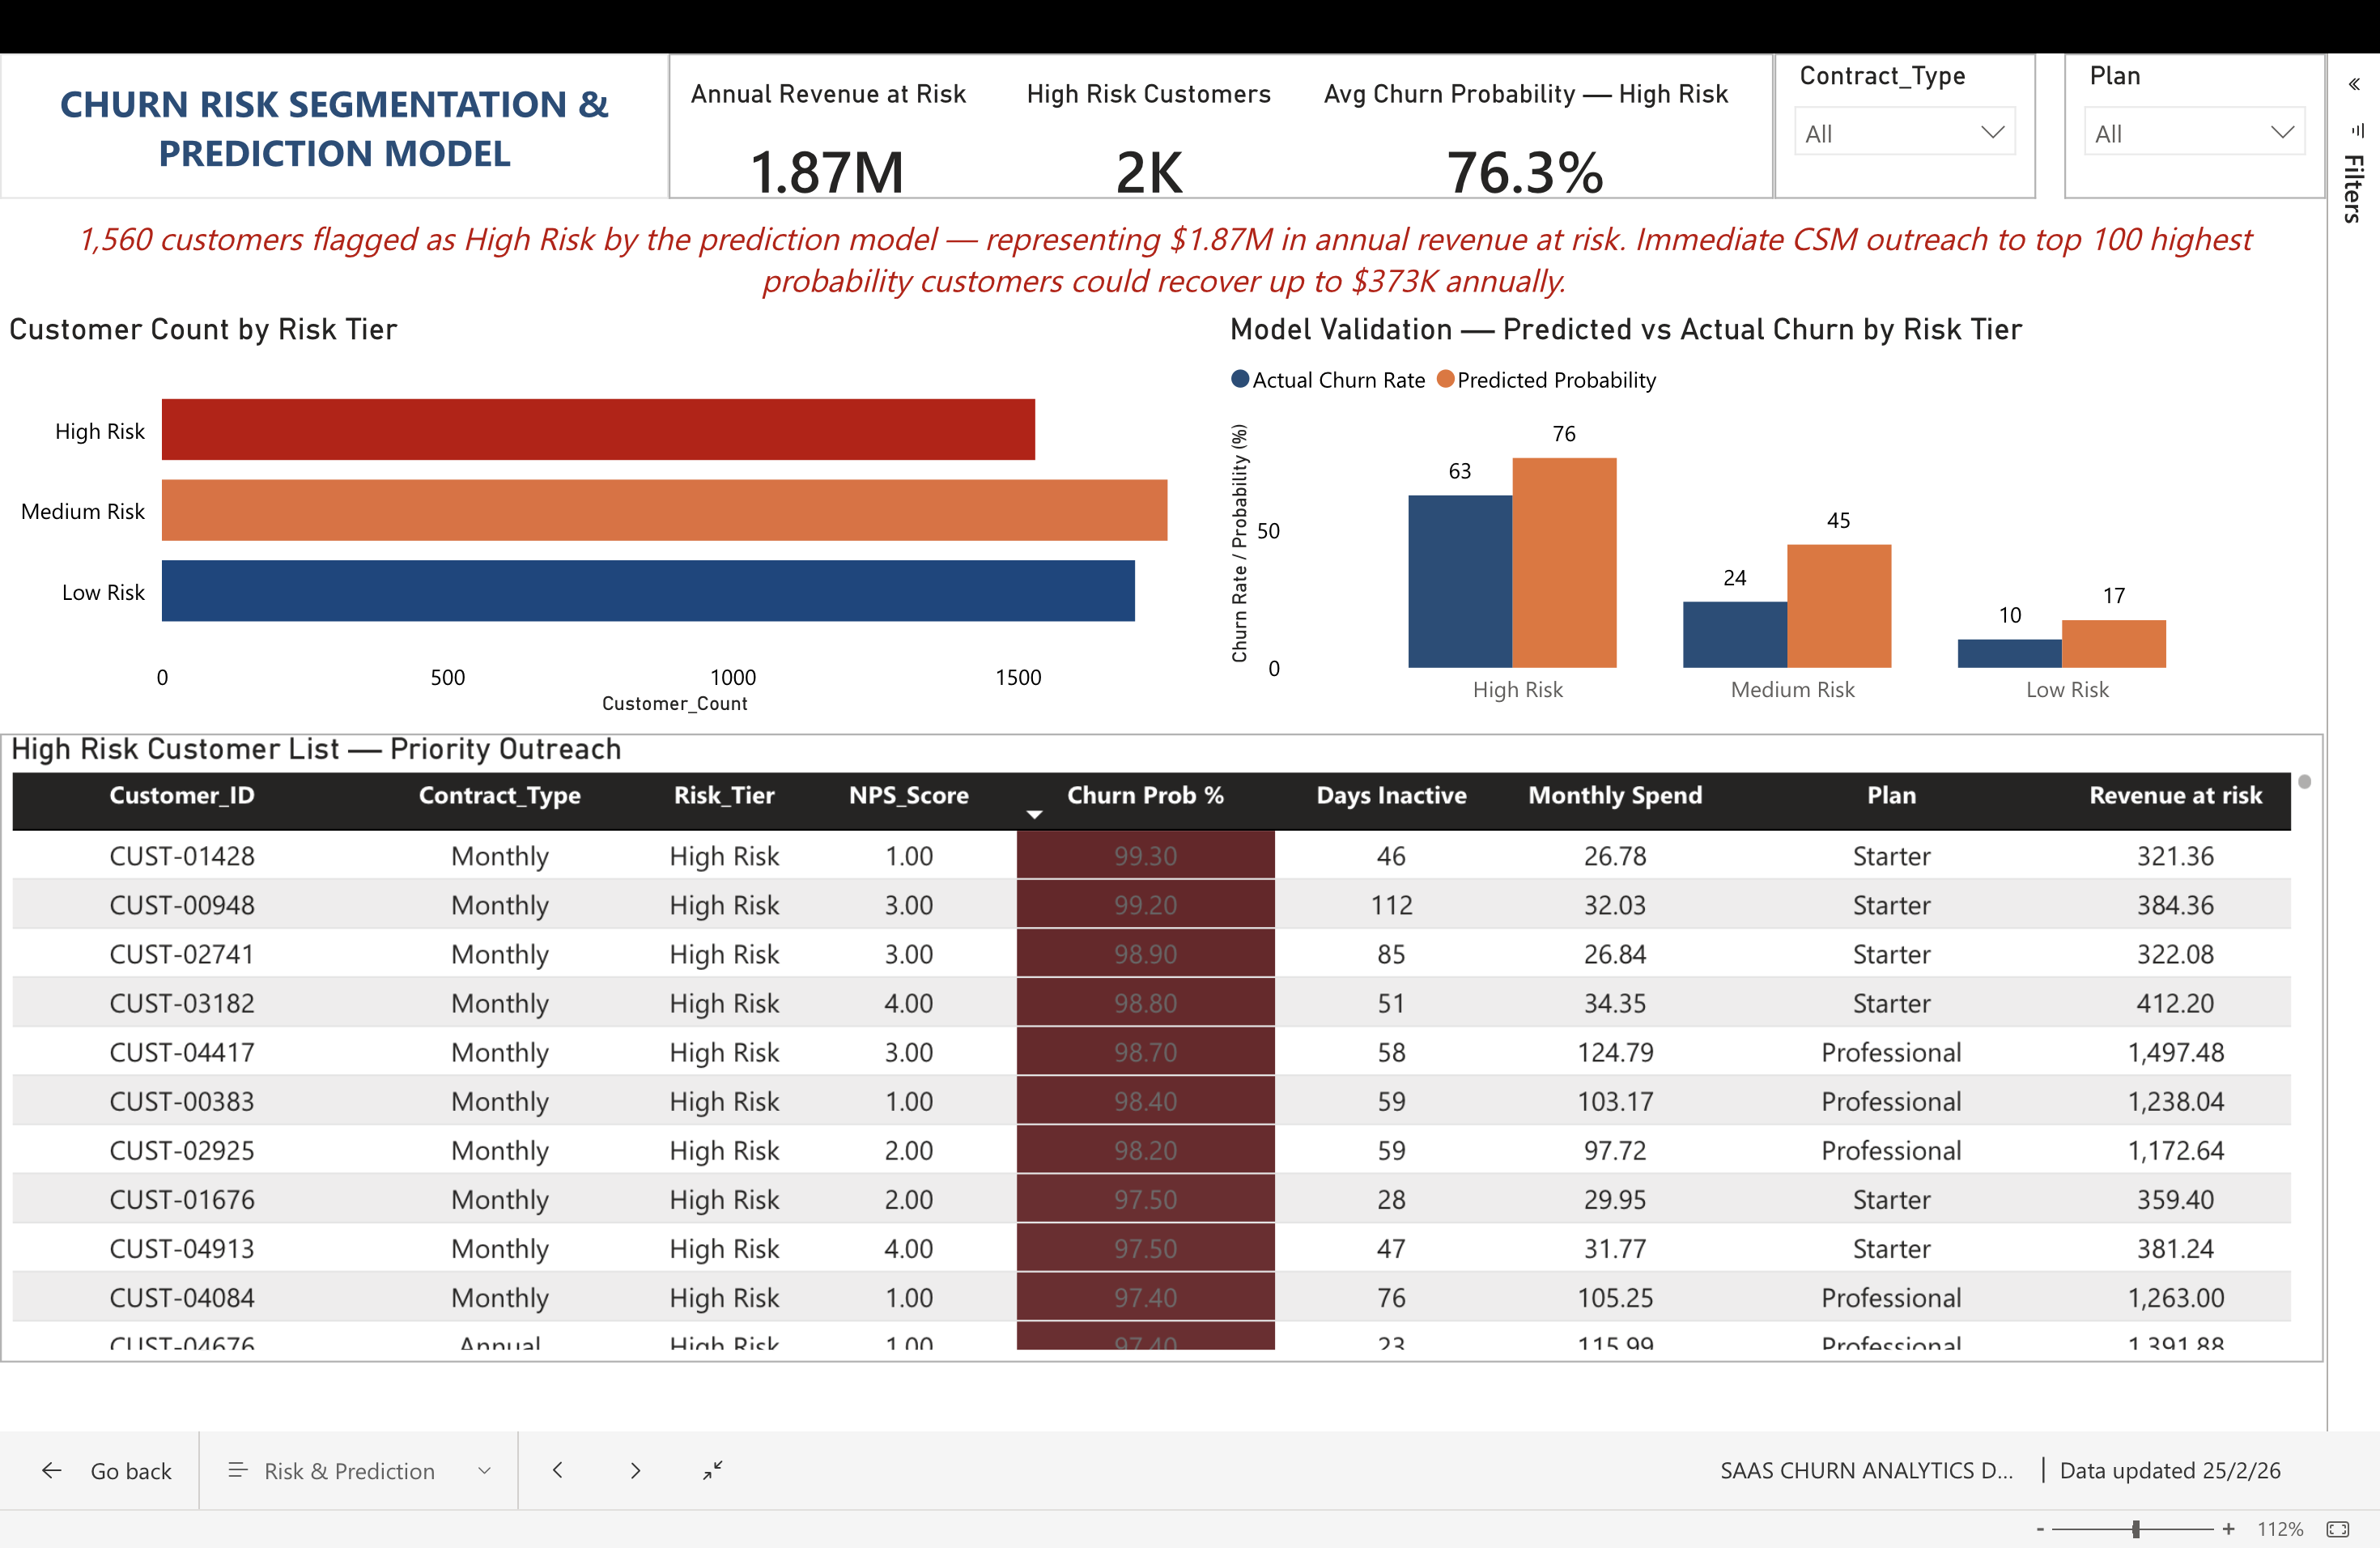

Layout of this report page (visuals, bound fields, positions):
{"tool":"powerbi","page":{"name":"Risk & Prediction","canvas":[1280,720],"ordinal":2},"visuals":[{"type":"shape","box":[0,0,368,80],"z":0},{"type":"slicer","fields":{"Values":["churn_dashboard_main.Plan"]},"box":[1136,0,144,80],"z":1000},{"type":"slicer","fields":{"Values":["churn_dashboard_contract.Contract_Type"]},"box":[976,0,144,80],"z":2000},{"type":"cardVisual","title":"High Risk Customers","fields":{"Data":["churn_dashboard_main.High Risk Count"]},"box":[544,16,176,80],"z":3000},{"type":"cardVisual","title":"Annual Revenue at Risk","fields":{"Data":["churn_dashboard_main.High Risk Revenue"]},"box":[368,16,176,80],"z":4000},{"type":"cardVisual","title":"Avg Churn Probability — High Risk","fields":{"Data":["churn_dashboard_main.High Risk Avg Prob"]},"box":[720,16,240,80],"z":5000},{"type":"clusteredBarChart","title":"Customer Count by Risk Tier","fields":{"Y":["Avg(churn_dashboard_risk.Customer_Count)"],"Category":["churn_dashboard_risk.Risk_Tier"]},"box":[0,144,672,224],"z":6000},{"type":"clusteredColumnChart","title":"Model Validation — Predicted vs Actual Churn by Risk Tier","fields":{"Category":["churn_dashboard_main.Risk_Tier"],"Y":["Avg(churn_dashboard_risk.Actual_Churn_Rate_Pct)","Avg(churn_dashboard_risk.Avg_Churn_Probability_Pct)"]},"box":[672,144,592,224],"z":7000},{"type":"tableEx","title":"High Risk Customer List — Priority Outreach","fields":{"Values":["churn_dashboard_main.Customer_ID","churn_dashboard_main.Contract_Type","churn_dashboard_main.Risk_Tier","Avg(churn_dashboard_main.NPS_Score)","Avg(churn_dashboard_main.Churn_Probability_Pct)","Sum(churn_dashboard_main.Days_Since_Last_Login)","Avg(churn_dashboard_main.Monthly_Spend_USD)","churn_dashboard_main.Plan","churn_dashboard_main.High Risk Revenue"]},"box":[0,374.2,1278.4,345.8],"z":8000},{"type":"shape","box":[368,0,608,80],"z":9000},{"type":"shape","box":[16,80,1248,64],"z":10000}]}

Visuals, with their boxes on the page's 1280x720 design canvas (x1, y1, x2, y2). These are canvas units, not pixel positions in the 2380x1548 screenshot, which may show the page scaled, cropped or inside an application window:
shape: x1=0 y1=0 x2=368 y2=80
slicer - churn_dashboard_main.Plan: x1=1136 y1=0 x2=1280 y2=80
slicer - churn_dashboard_contract.Contract_Type: x1=976 y1=0 x2=1120 y2=80
"High Risk Customers" cardVisual: x1=544 y1=16 x2=720 y2=96
"Annual Revenue at Risk" cardVisual: x1=368 y1=16 x2=544 y2=96
"Avg Churn Probability — High Risk" cardVisual: x1=720 y1=16 x2=960 y2=96
"Customer Count by Risk Tier" clusteredBarChart: x1=0 y1=144 x2=672 y2=368
"Model Validation — Predicted vs Actual Churn by Risk Tier" clusteredColumnChart: x1=672 y1=144 x2=1264 y2=368
"High Risk Customer List — Priority Outreach" tableEx: x1=0 y1=374 x2=1278 y2=720
shape: x1=368 y1=0 x2=976 y2=80
shape: x1=16 y1=80 x2=1264 y2=144
